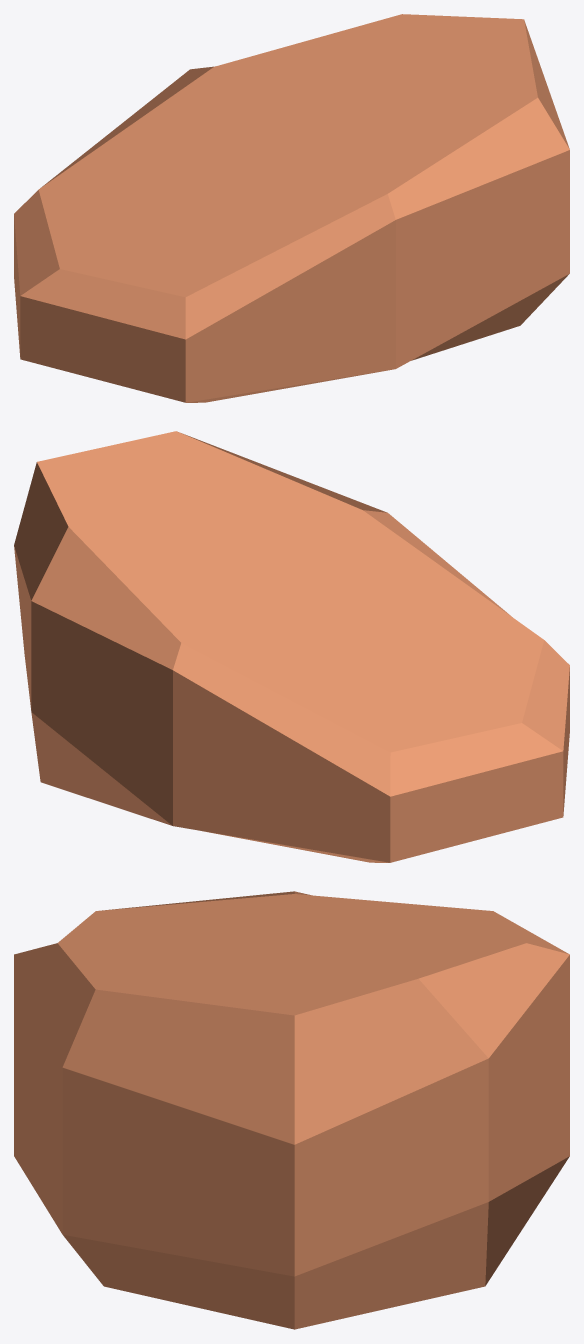
File: Stone001.fbx
The picture shows the model from 3 angles, top to bottom: view 1: azimuth 30°, elevation 25°; view 2: azimuth 150°, elevation 25°; view 3: azimuth 270°, elevation 25°; orthographic projection. The views are drawn at different scales.
Visible parts, largest first — view 1: Stone001; view 2: Stone001; view 3: Stone001.
Boxes of the visible parts, <box> form: Stone001: <box>14,14,569,402</box>; Stone001: <box>14,431,569,862</box>; Stone001: <box>14,891,569,1329</box>.
Size of the model in its own units: 1.47 by 0.6348 by 0.9999.
